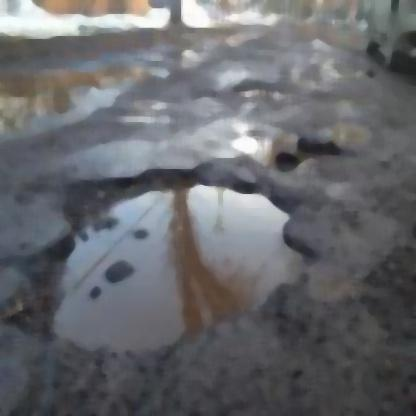Potholes: (70, 164, 296, 346)
